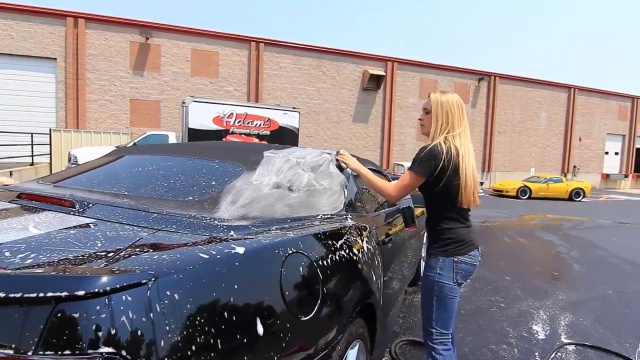person: (348, 87, 483, 360)
